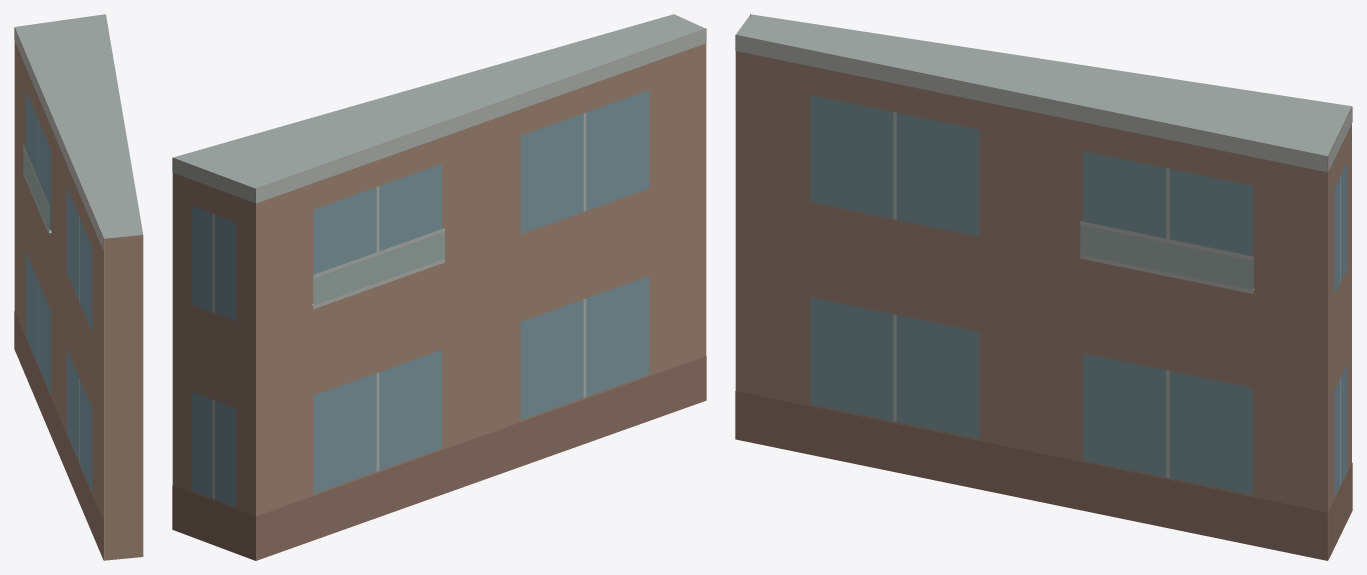
File: survey-upis-33013888.glb
3 views of the same model, side by side, from view 1: azimuth 30°, elevation 25°; view 2: azimuth 150°, elevation 25°; view 3: azimuth 270°, elevation 25° (orthographic). The views are drawn at different scales.
Parts seen in each view (by area): view 1: survey-upis-33013888.tmp; view 2: survey-upis-33013888.tmp; view 3: survey-upis-33013888.tmp.
Part boxes in pixels (x1=…): survey-upis-33013888.tmp: x1=14, y1=14, x2=143, y2=560; survey-upis-33013888.tmp: x1=172, y1=14, x2=706, y2=560; survey-upis-33013888.tmp: x1=735, y1=14, x2=1352, y2=560.
Bounding box in the file's own units: 4.61 × 6.1 × 8.43.
